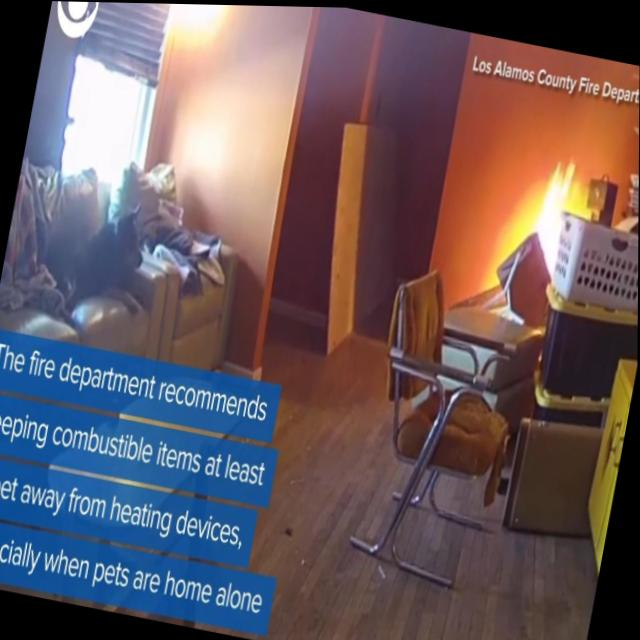fire: (519, 147, 591, 273)
